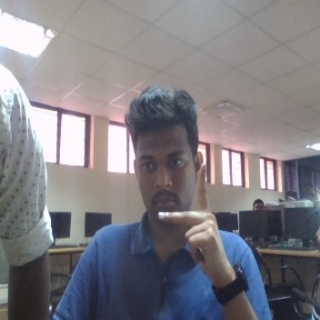Okay: (155, 161, 232, 284)
